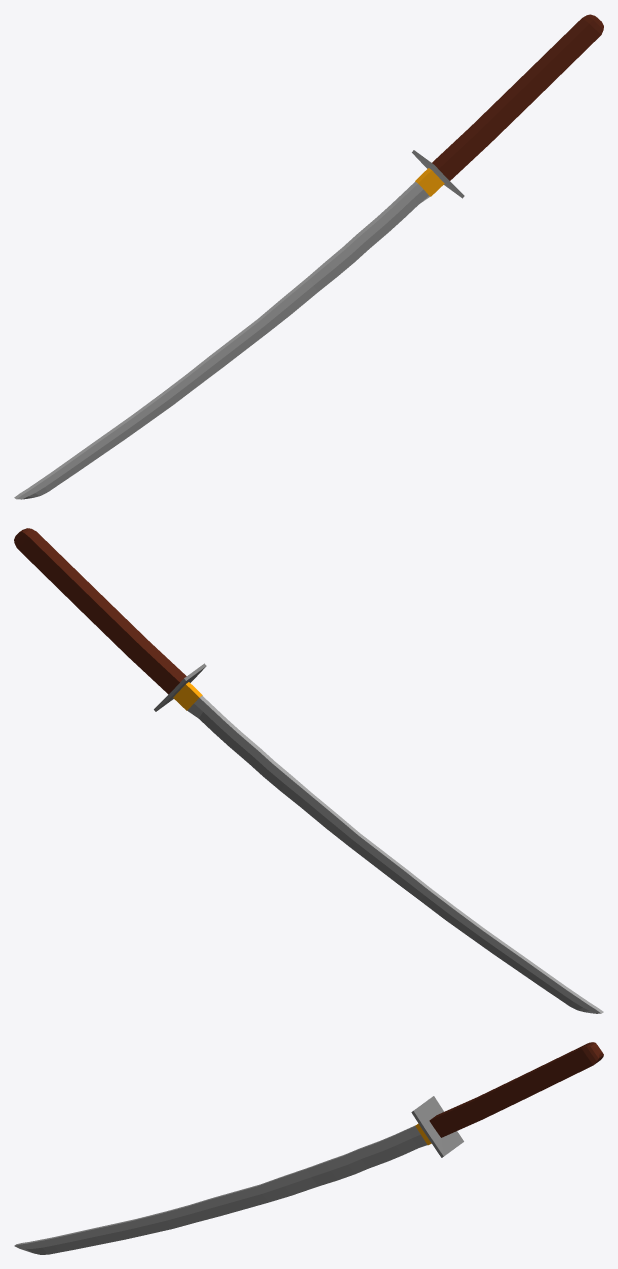
Rendered from katana.fbx.
The picture shows the model from 3 angles, top to bottom: view 1: azimuth 30°, elevation 25°; view 2: azimuth 150°, elevation 25°; view 3: azimuth 330°, elevation 25°; orthographic projection.
Parts seen in each view (by area): view 1: Cube; view 2: Cube; view 3: Cube.
Boxes of the visible parts, left/top/right/bottom form: Cube: left=14, top=14, right=603, bottom=499; Cube: left=14, top=528, right=603, bottom=1013; Cube: left=14, top=1042, right=603, bottom=1254.
Size of the model in its own units: 1208 by 680 by 73.1.
